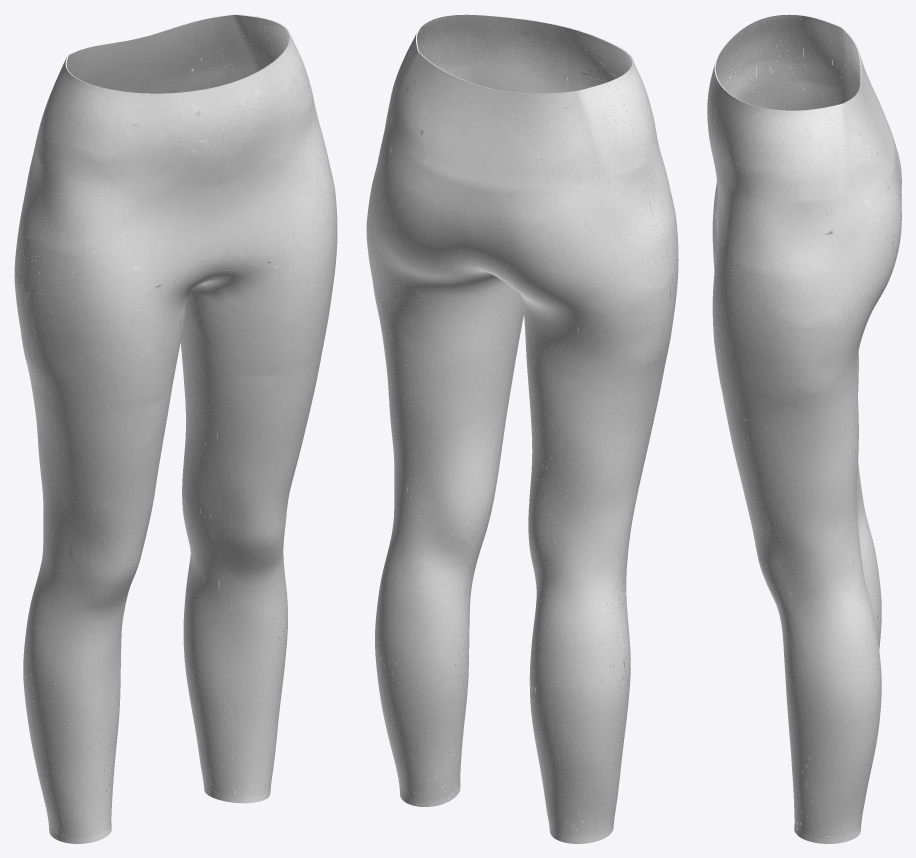
The model's file is hoodie_model.glb.
The picture shows the model from 3 angles, left to right: view 1: azimuth 30°, elevation 25°; view 2: azimuth 150°, elevation 25°; view 3: azimuth 270°, elevation 25°; orthographic projection. The views are drawn at different scales.
Visible parts, largest first — view 1: leggings_low; view 2: leggings_low; view 3: leggings_low.
Boxes of the visible parts, x1,y1,x2,y2 form: leggings_low: (14, 14, 337, 843); leggings_low: (366, 14, 678, 843); leggings_low: (707, 14, 901, 843).
Bounding box in the file's own units: 0.3769 × 0.927 × 0.2231.
Materials: 1 (1 with a texture image).
